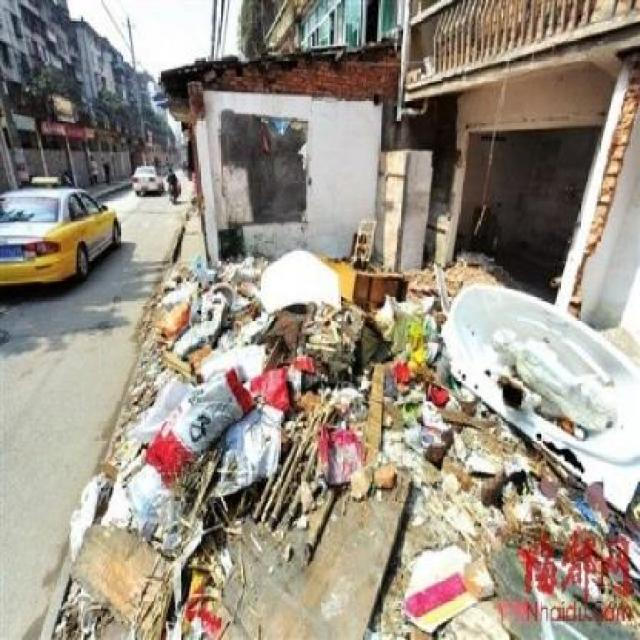garbage: (163, 265, 390, 528), (342, 365, 575, 542)
